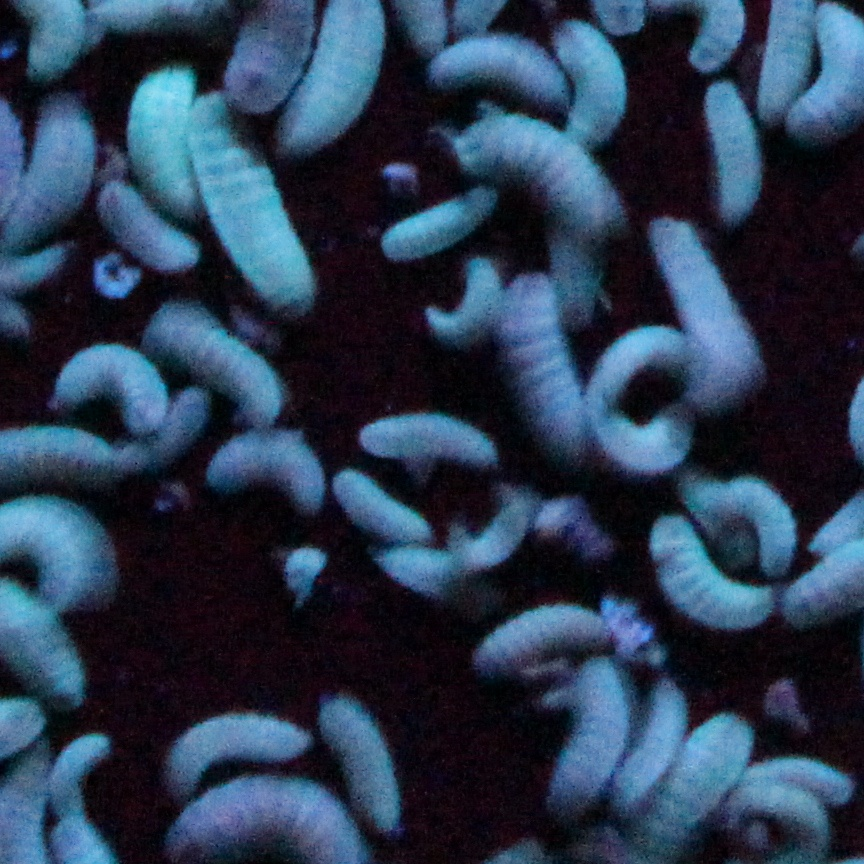larve: (179, 83, 325, 314), (446, 98, 633, 234), (479, 263, 610, 451), (638, 212, 759, 393), (138, 296, 291, 422), (1, 95, 92, 277), (636, 517, 781, 630), (138, 703, 320, 790), (317, 681, 418, 834), (550, 653, 639, 822), (48, 326, 177, 442), (195, 417, 341, 516), (344, 396, 505, 481), (571, 315, 690, 426), (469, 589, 621, 672), (92, 175, 207, 275), (317, 467, 438, 553), (702, 80, 771, 230), (376, 181, 497, 265), (417, 250, 507, 360), (597, 400, 710, 479)
